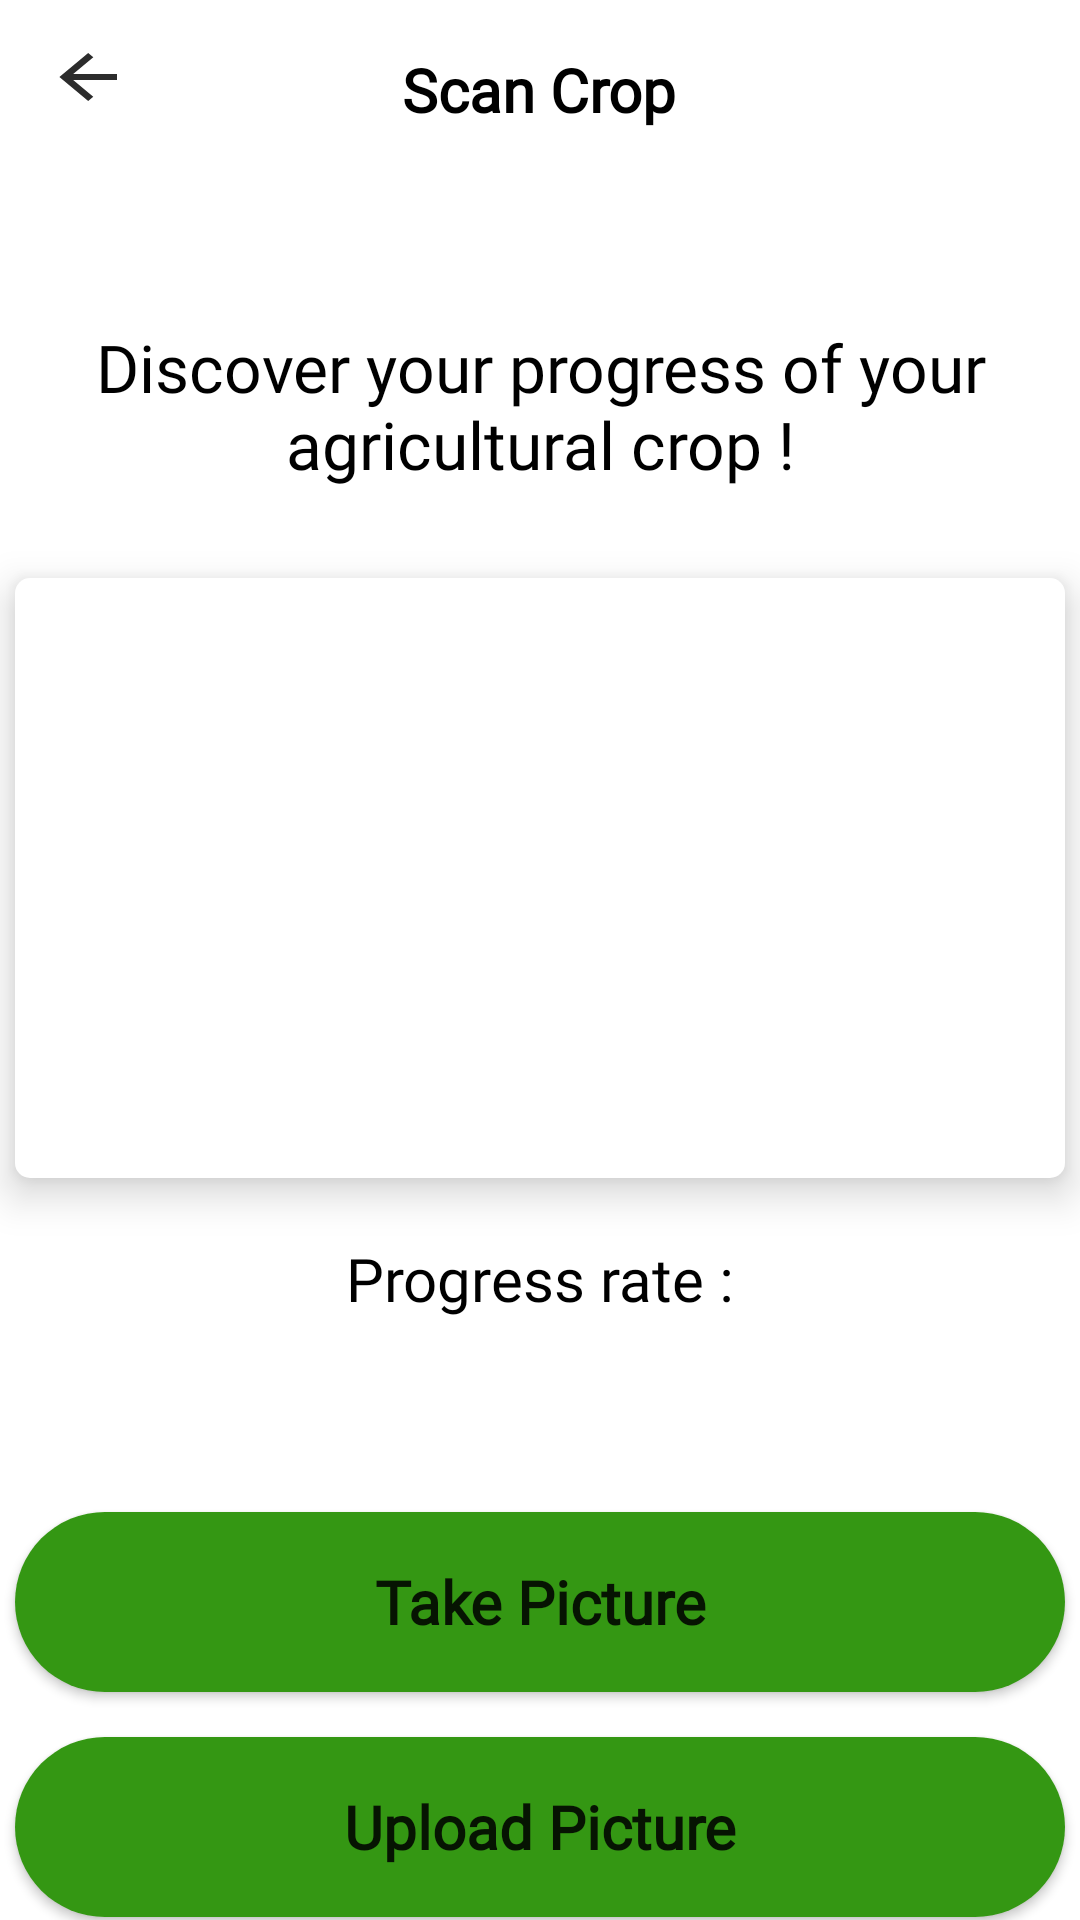

Icons on this 1080px×1920px Android screen, each with the point to tap as (x,y):
arrow back: (88,77)
